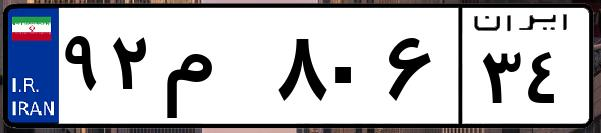0: (330, 28, 385, 110)
2: (110, 28, 158, 98)
3: (475, 38, 525, 113)
4: (525, 38, 570, 115)
6: (385, 28, 445, 110)
8: (270, 28, 330, 110)
9: (57, 26, 110, 100)
م: (158, 20, 270, 120)
